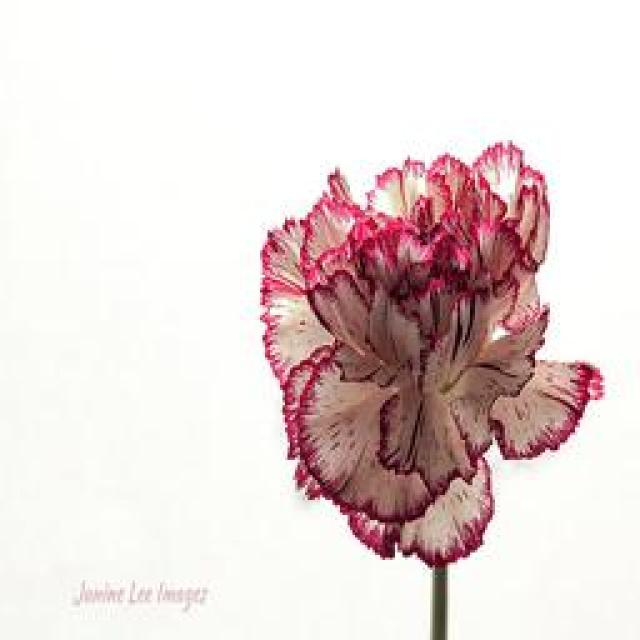carnation: (225, 150, 610, 568)
